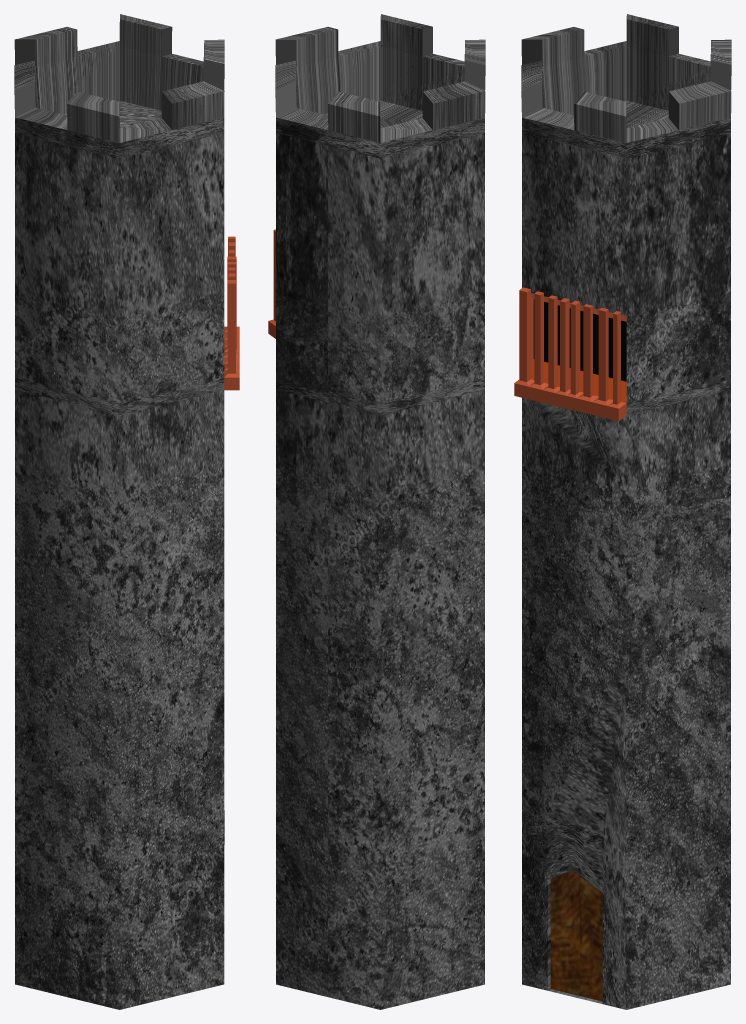
Rendered from torre.FBX.
The picture shows the model from 3 angles, left to right: view 1: azimuth 30°, elevation 25°; view 2: azimuth 150°, elevation 25°; view 3: azimuth 270°, elevation 25°; orthographic projection.
Visible parts, largest first — view 1: Cylinder004; view 2: Cylinder004; view 3: Cylinder004.
Part boxes in pixels (x1=…): Cylinder004: x1=14, y1=14, x2=239, y2=1009; Cylinder004: x1=268, y1=14, x2=485, y2=1009; Cylinder004: x1=514, y1=14, x2=731, y2=1009.
Bounding box in the file's own units: 688 × 2671 × 586.
Materials: 6 (2 with a texture image).
